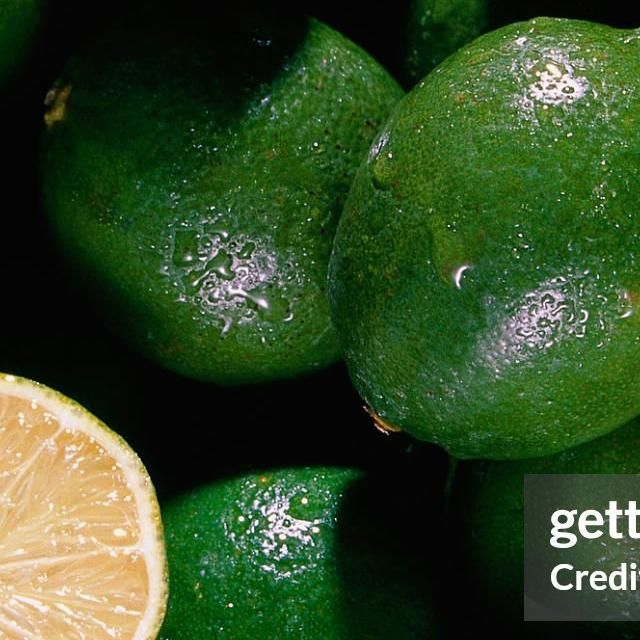lime: (314, 13, 640, 473)
